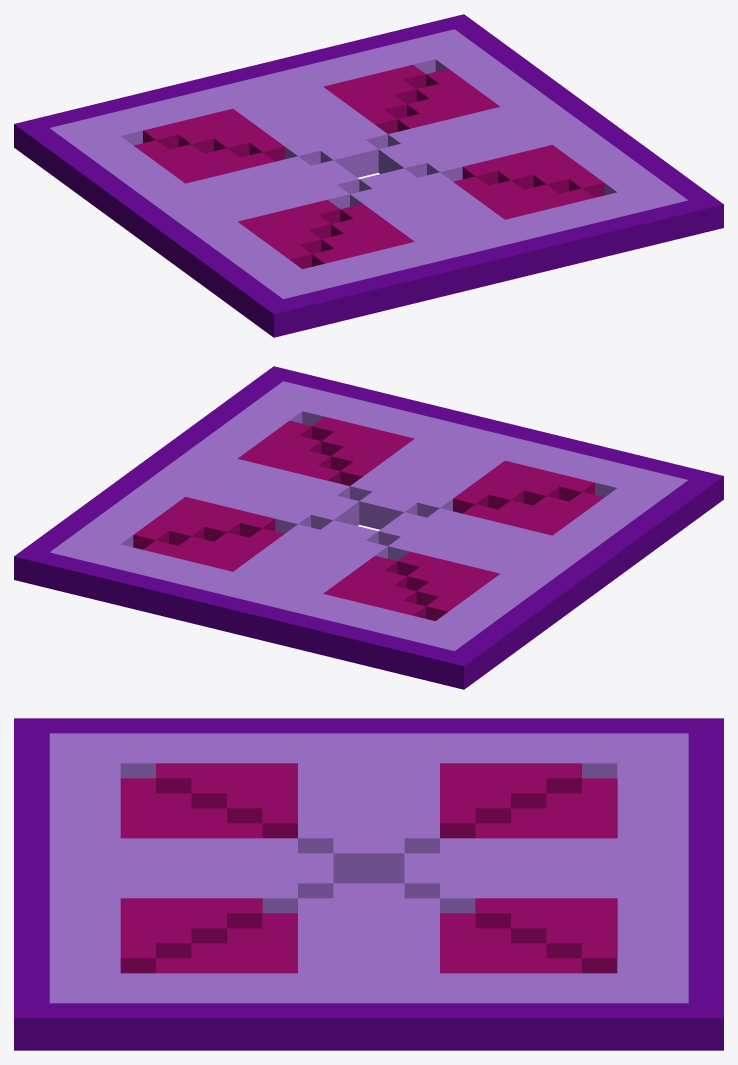
The model's file is spike1.obj.
3 views of the same model, one above another, from view 1: azimuth 30°, elevation 25°; view 2: azimuth 150°, elevation 25°; view 3: azimuth 270°, elevation 25° (orthographic). The views are drawn at different scales.
Size of the model in its own units: 2 by 0.1 by 2.
1 material, 1 textured.
